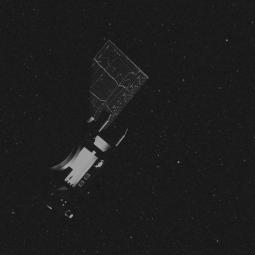proba_3_csc: (15, 36, 145, 226)
